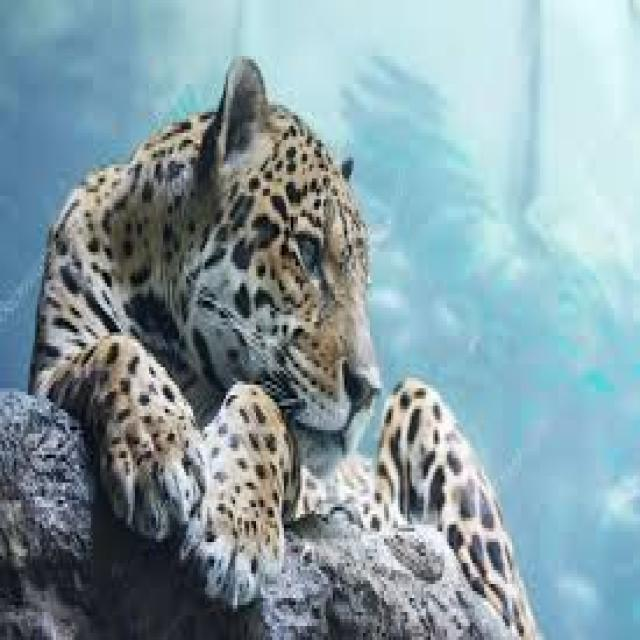Jaguar: (32, 73, 502, 588)
